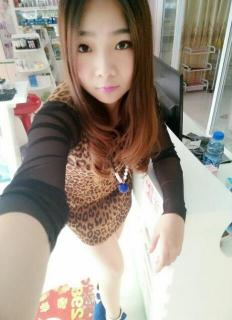vest: (43, 74, 144, 245)
